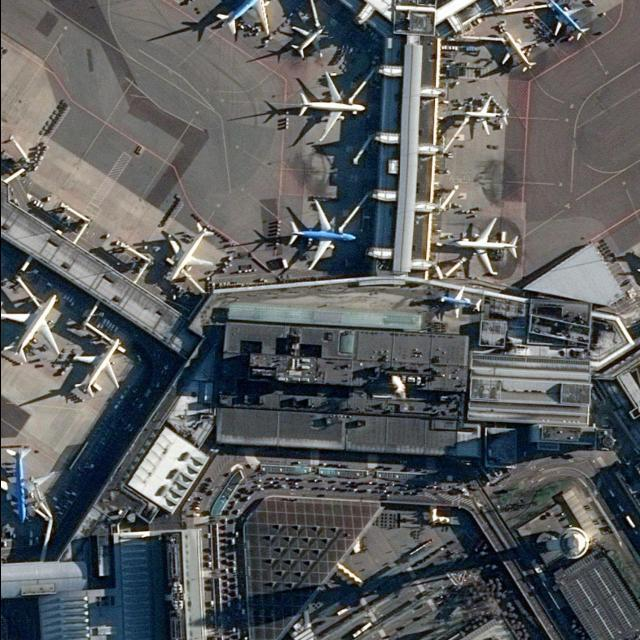Aircraft: (285, 200, 354, 272), (296, 73, 365, 143), (0, 293, 60, 365), (0, 447, 52, 525), (452, 218, 518, 276), (70, 338, 121, 399), (164, 222, 214, 284), (213, 0, 279, 38), (544, 0, 589, 42), (462, 97, 508, 137), (498, 30, 536, 74), (438, 287, 480, 321), (289, 23, 326, 60)
